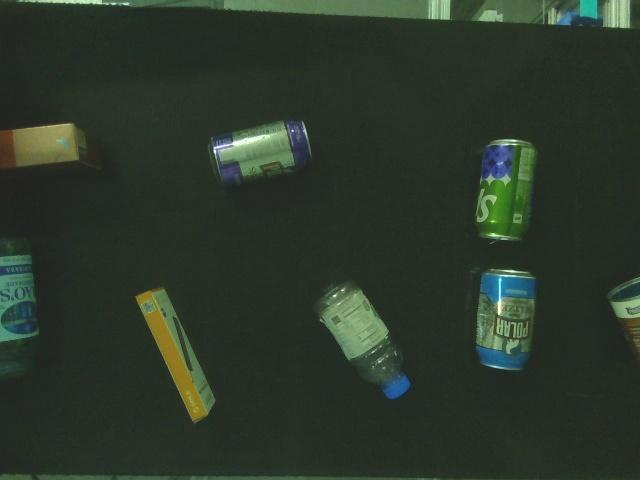cardboard: (134, 283, 220, 432), (0, 119, 107, 187)
metal: (200, 112, 322, 200), (468, 261, 540, 380), (471, 133, 542, 246), (603, 271, 640, 398)
plastic: (312, 269, 416, 407), (0, 232, 51, 391)
